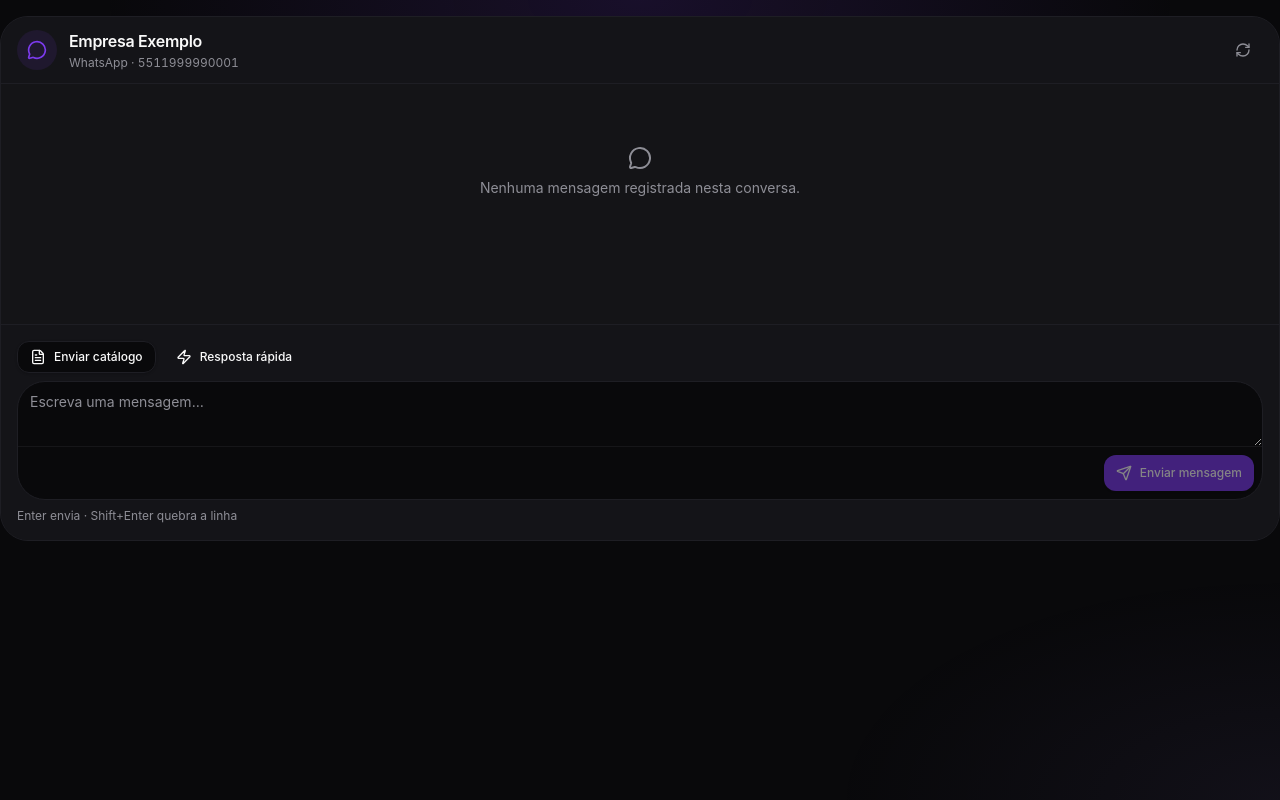
Test: envia pela ficha e lê a mensagem registrada na própria conversa
expect the text "Nenhuma mensagem registrada nesta conversa." is shown: met, box [480,178,800,198]
Step 1. Type "Olá, posso ajudar?" into the text box named "Sua mensagem" → (640, 414), box [18,382,1262,446]
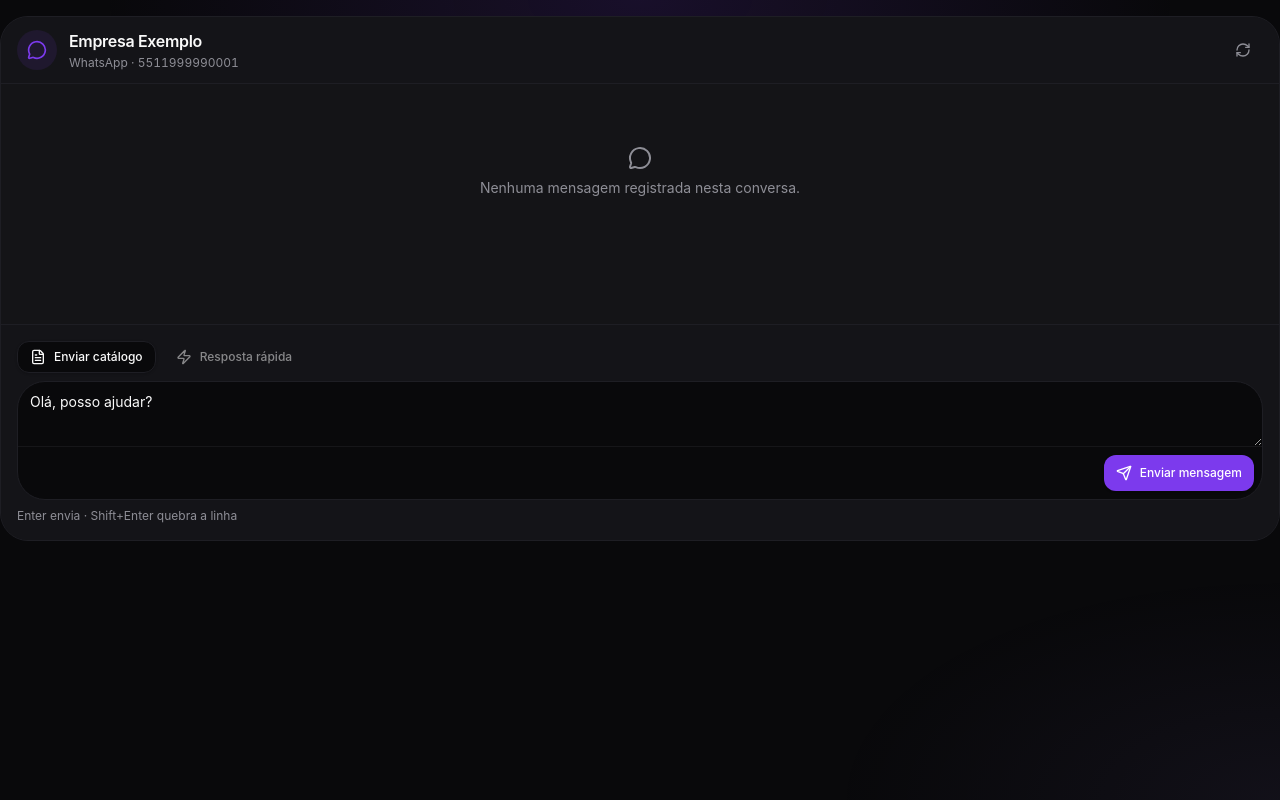
Step 2. Press Enter in the text box named "Sua mensagem", box [18,382,1262,446]
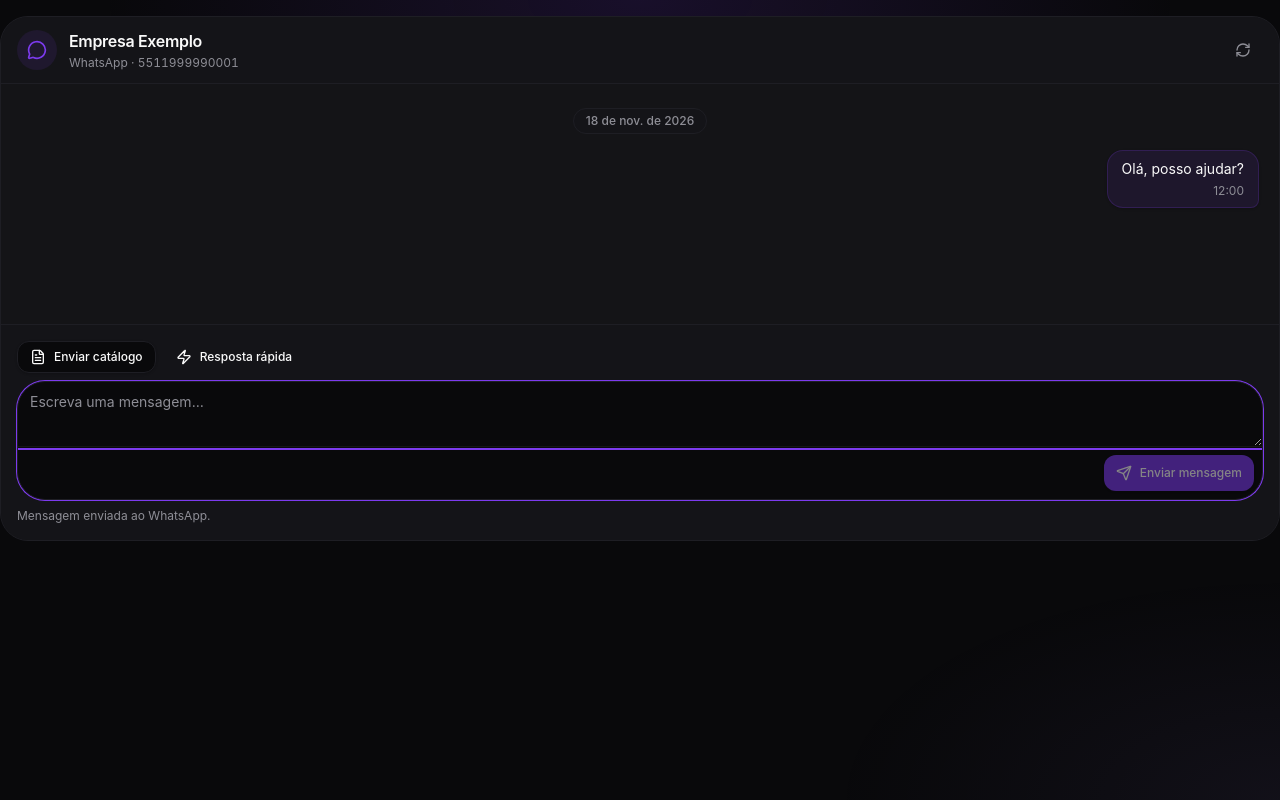
expect the text "Mensagem enviada ao WhatsApp." is shown: met, box [17,508,210,523]
expect the text "Olá, posso ajudar?" is shown once: met, box [1122,159,1244,179]
expect the text box named "Sua mensagem" is empty: met, box [18,382,1262,446]
